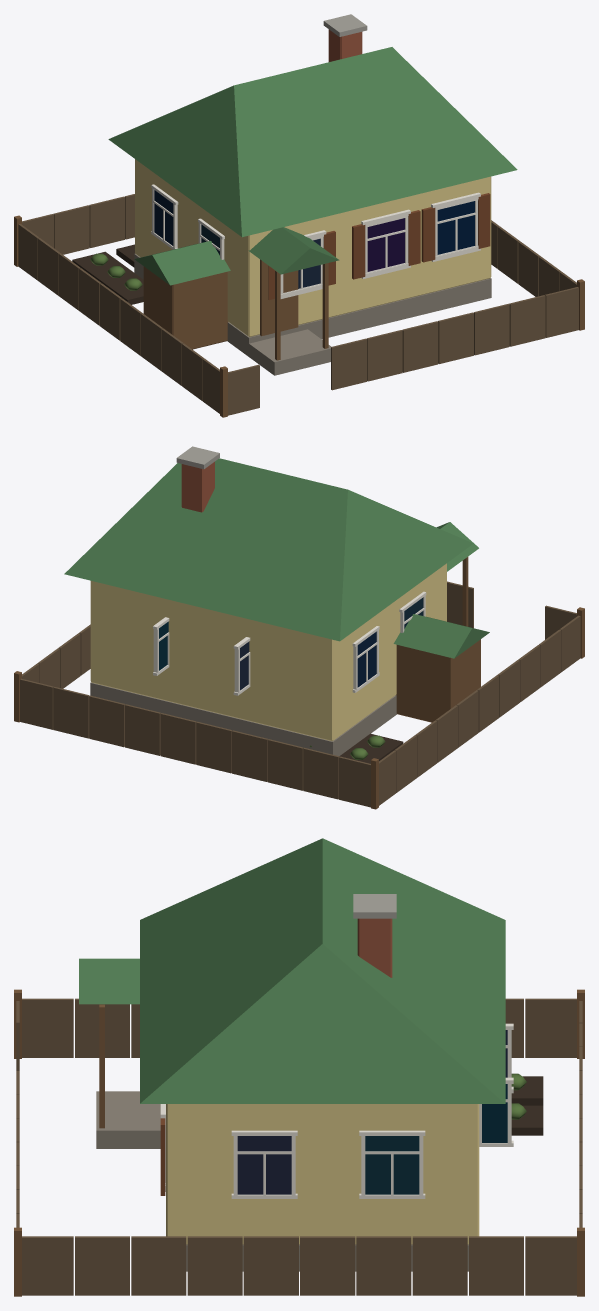
Rendered from house_c.glb.
3 renders of one model, top to bottom at view 1: azimuth 30°, elevation 25°; view 2: azimuth 150°, elevation 25°; view 3: azimuth 270°, elevation 25°, orthographic. The views are drawn at different scales.
Parts seen in each view (by area): view 1: house_c; view 2: house_c; view 3: house_c.
Part boxes in pixels (x1,y1,x2,y2): house_c: (14,14,584,417); house_c: (14,446,584,809); house_c: (14,838,584,1296).
Bounding box in the file's own units: 9.84 × 6.12 × 9.84.
